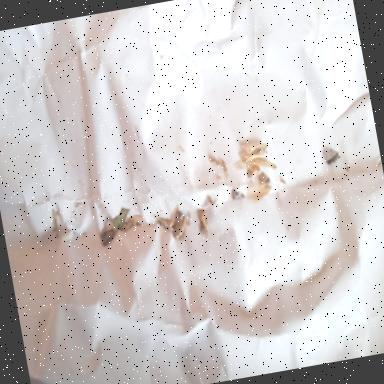pbw: (171, 217, 190, 241), (154, 214, 176, 234), (196, 207, 210, 238)
